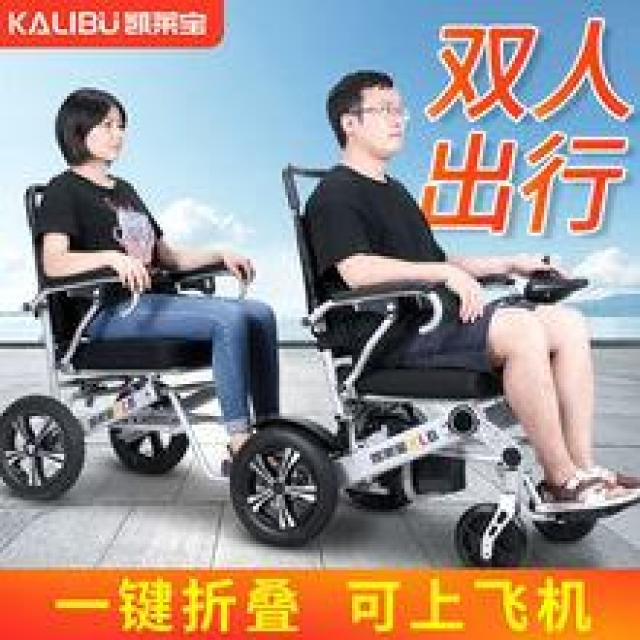wheelchairs: (230, 149, 632, 570), (0, 179, 281, 524)
